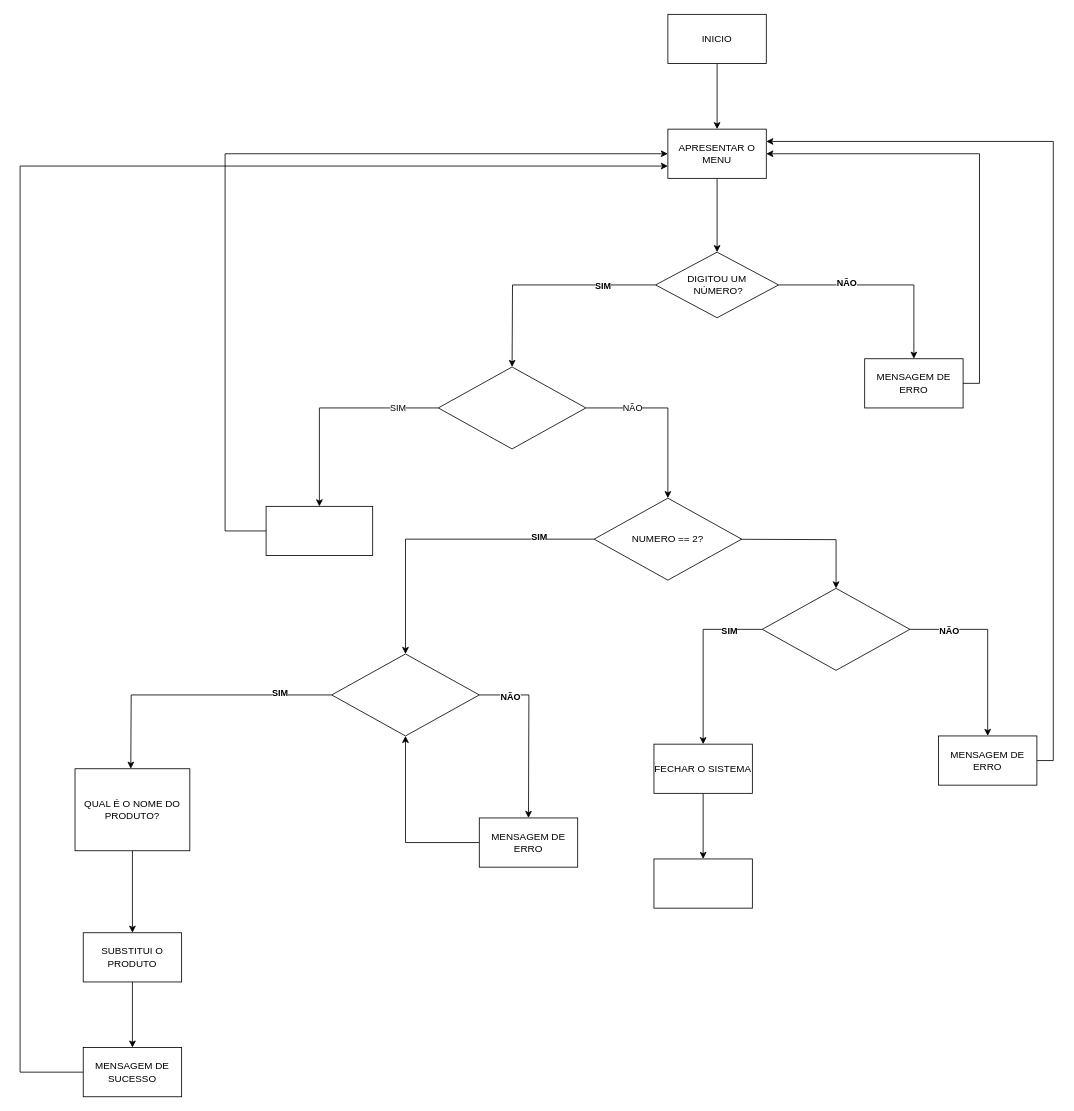
Some shapes in this 1074 by 1111 pixel diagram are drawn without their labels. The shapes that lost their labels are listed below. From the top down, each one's box as (x1, y1, x2, y2) in pixels, then its label:
(437, 366, 586, 449): NUMERO == 1?
(265, 506, 373, 556): LISTAR PRODUTOS
(761, 588, 910, 670): NUMERO == 3?
(331, 653, 479, 736): INDICE EXISTE NO ARRAY?
(653, 858, 752, 908): FIM
